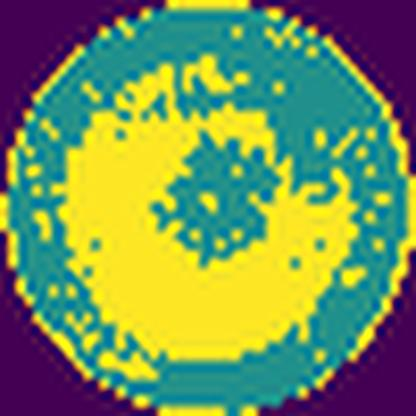Donut: (56, 43, 361, 375)
